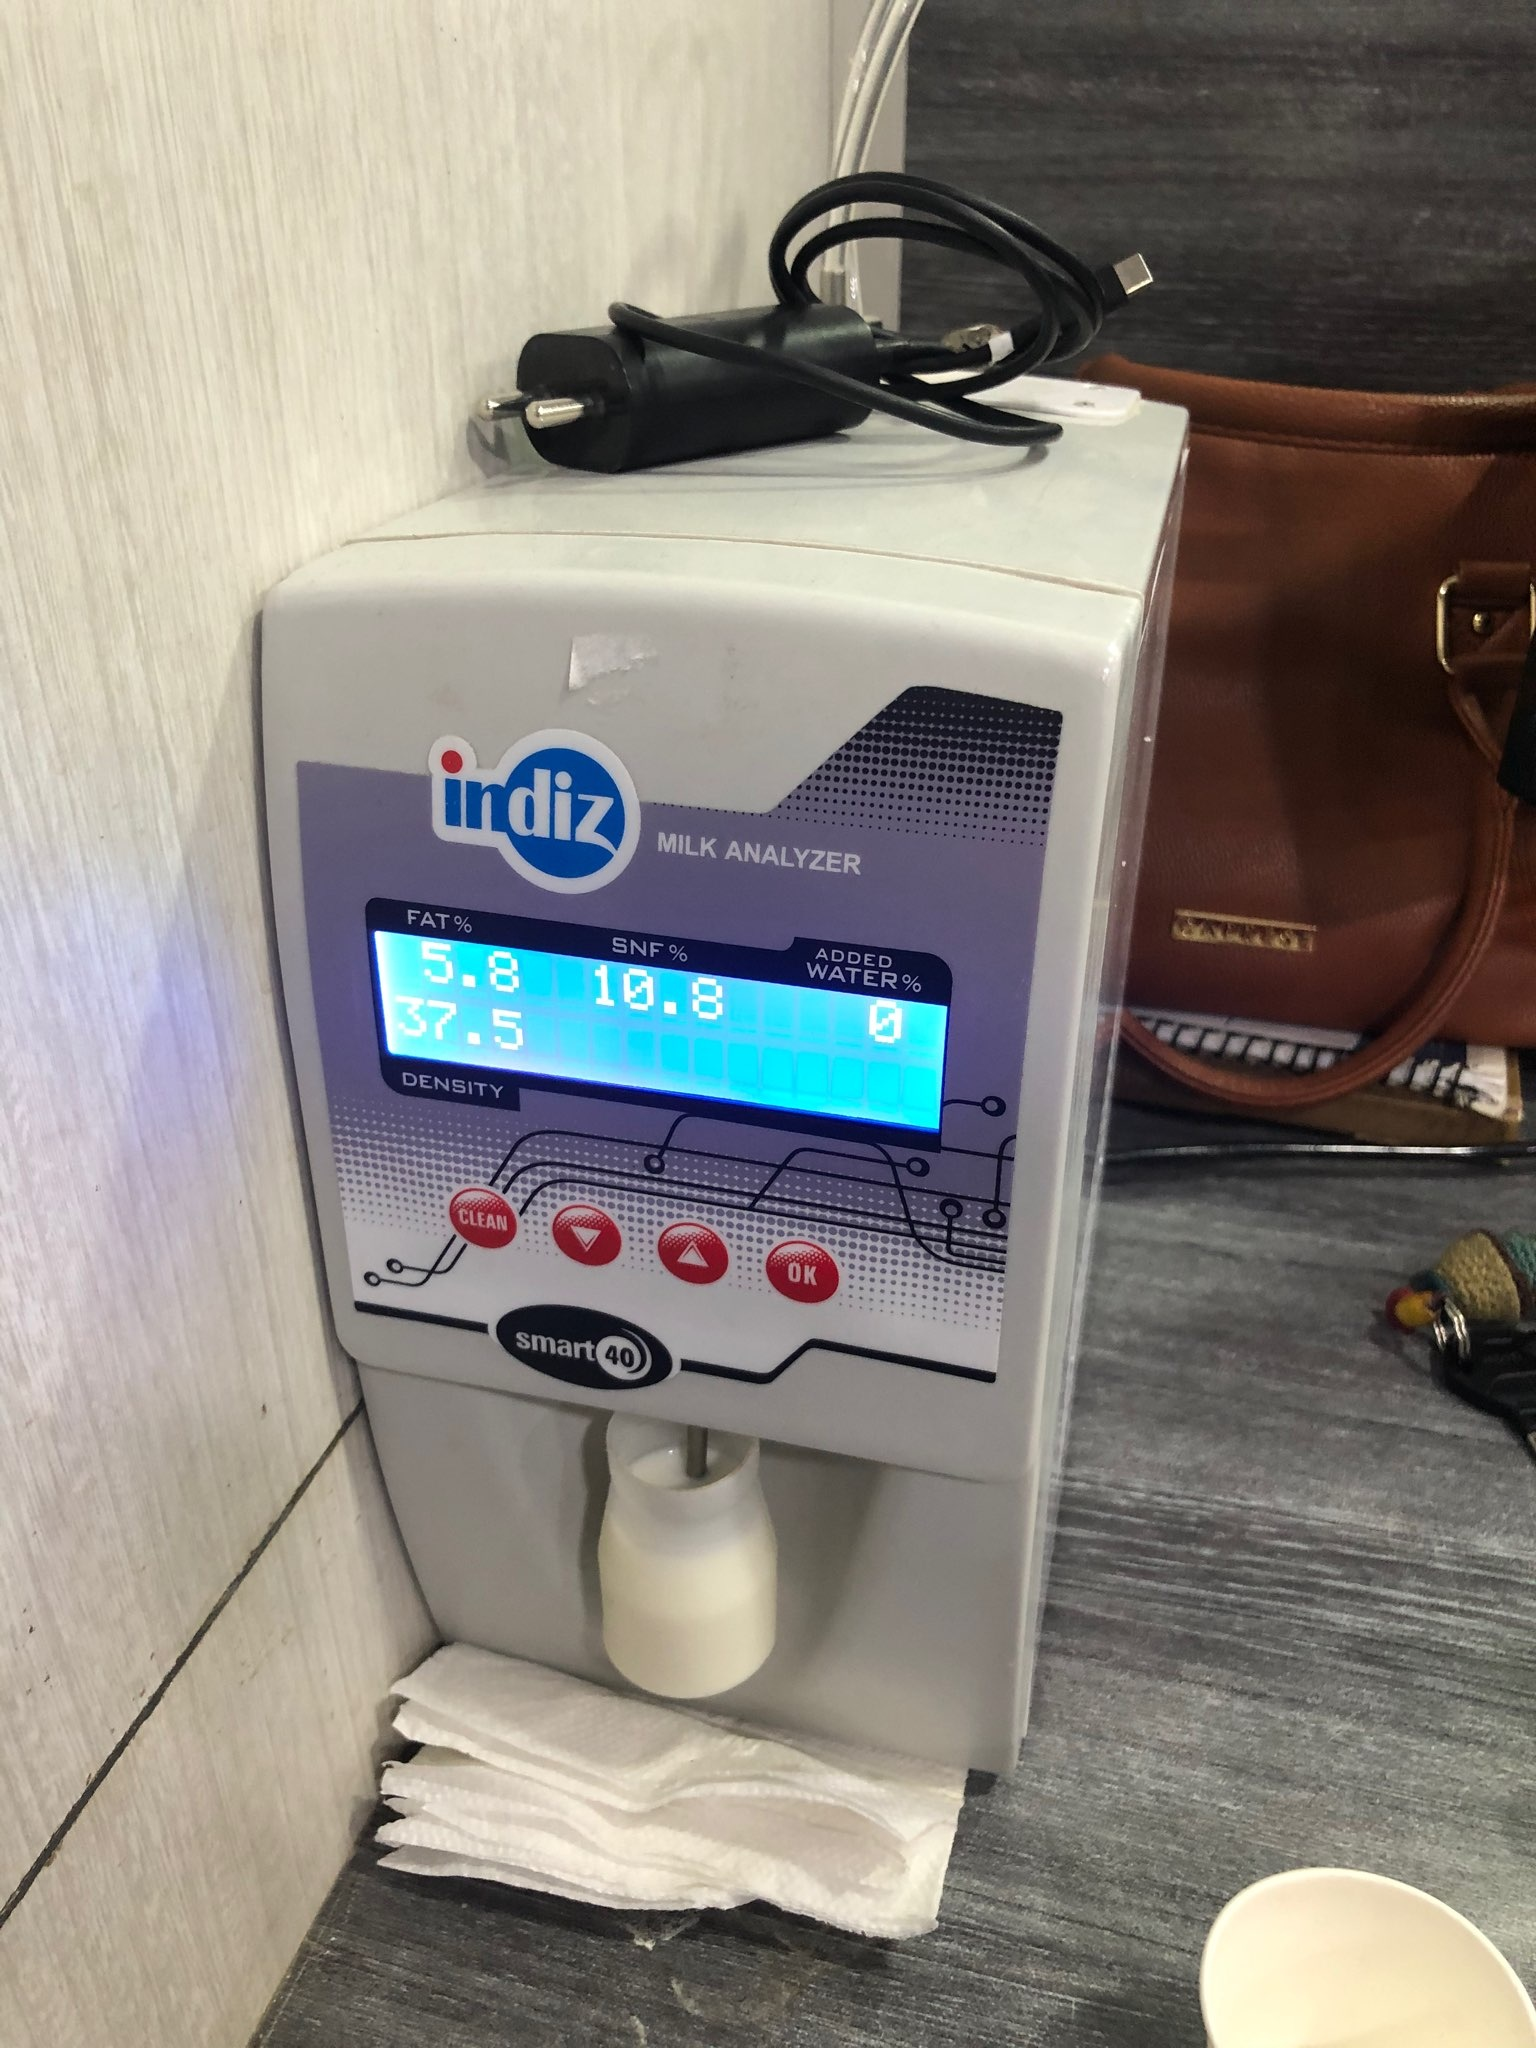lcd: (353, 877, 978, 1208)
